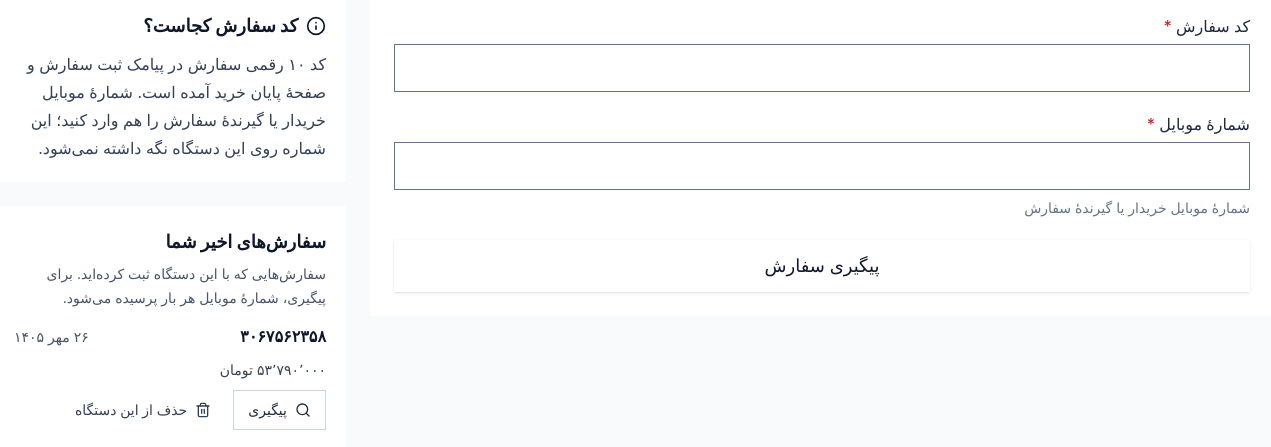
Scenario: the recent guest orders of this device › «پیگیری» while a lookup is on its way: it is aborted, its answer never shown
The image size is (1271, 447).
Later steps or results of the test are not shown.
Type "2583973877" into the field labelled "کد سفارش *".
click(822, 68); type("2583973877")  # box [395,45,1249,91]
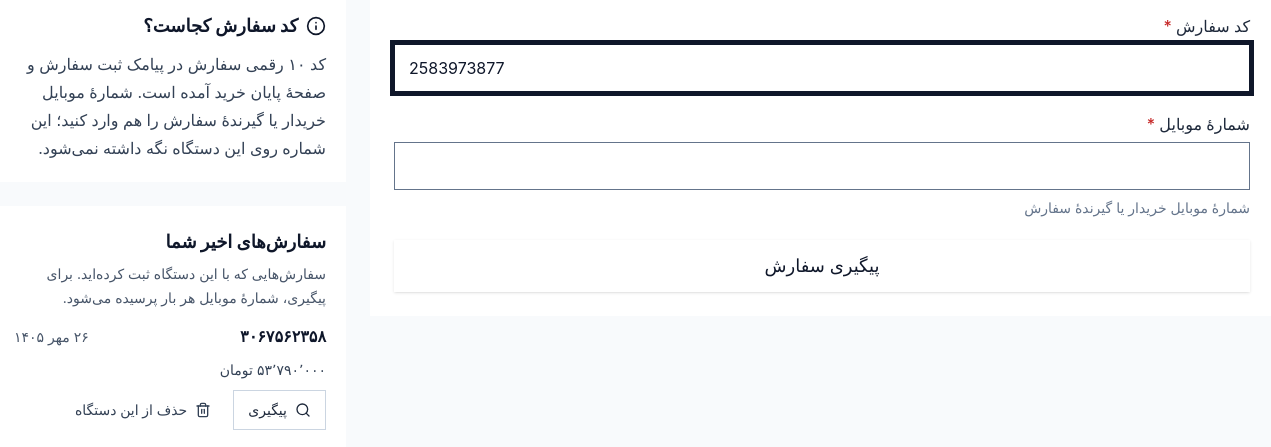
Type "09011234513" into the field labelled "شمارهٔ موبایل *".
click(822, 166); type("09011234513")  # box [395,143,1249,189]
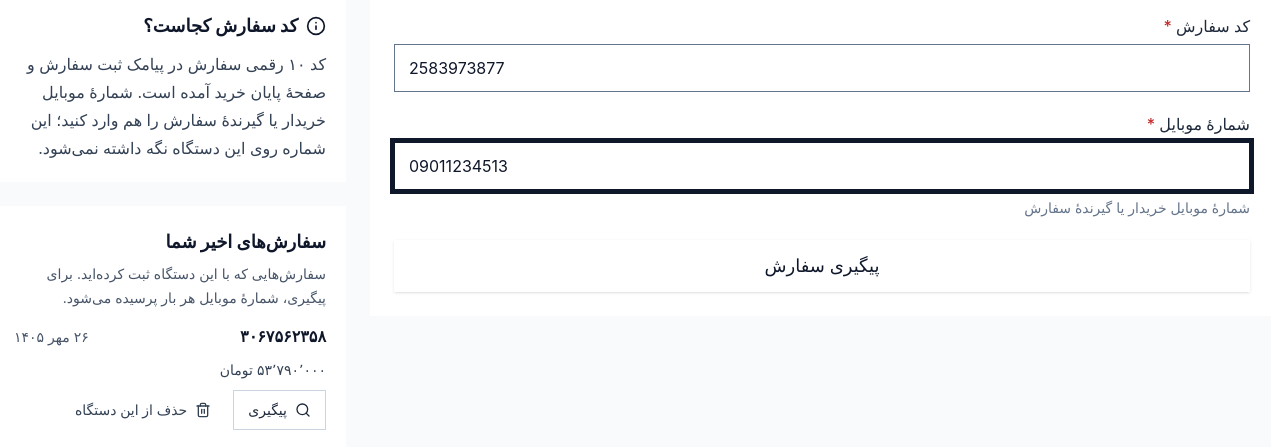
Click the button "پیگیری سفارش".
click(822, 266)  # box [394,240,1250,292]
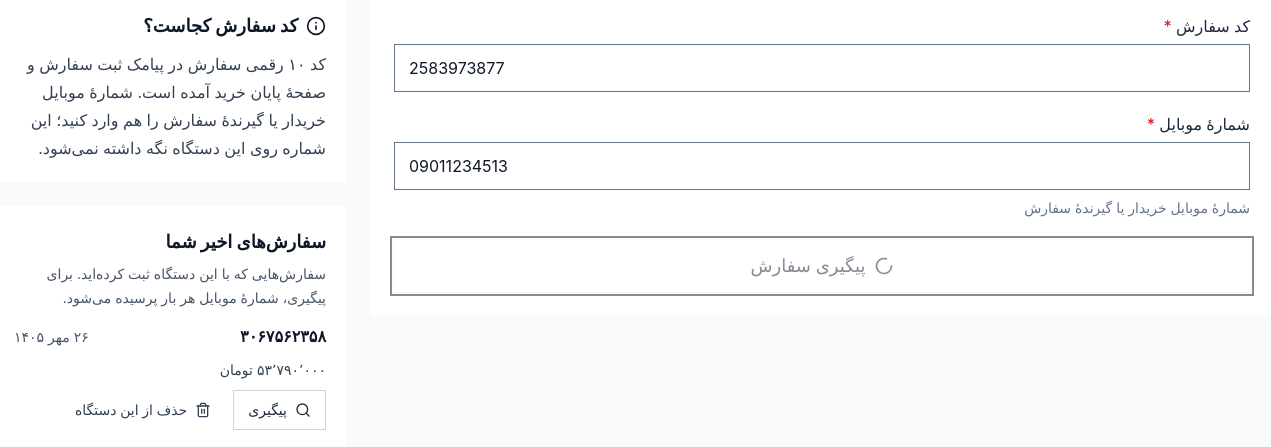
Click the button named "پیگیری سفارش ۳۰۶۷۵۶۲۳۵۸".
click(280, 410)  # box [233,390,326,430]
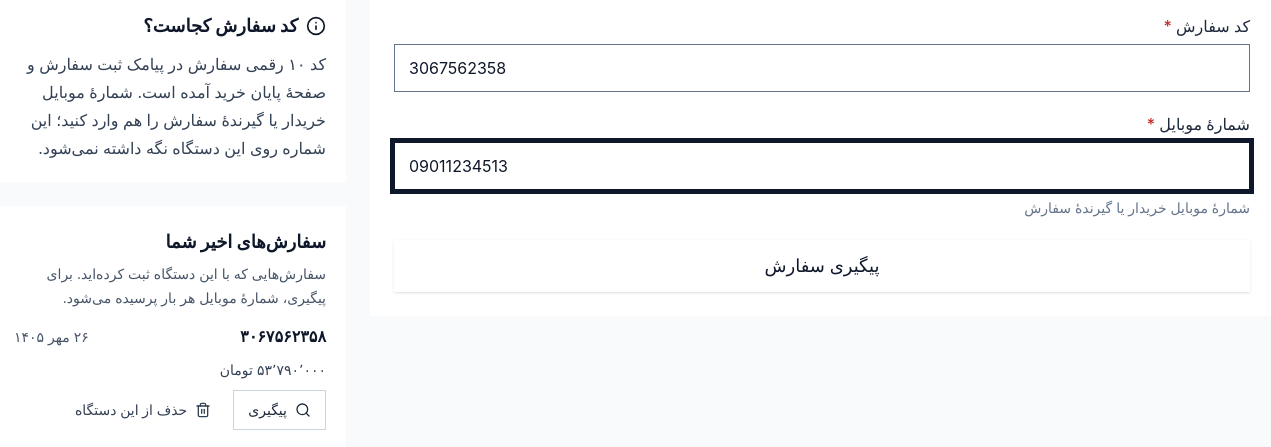
Result: the button "پیگیری سفارش" does not have attribute aria-busy at [394,240,1250,292]
